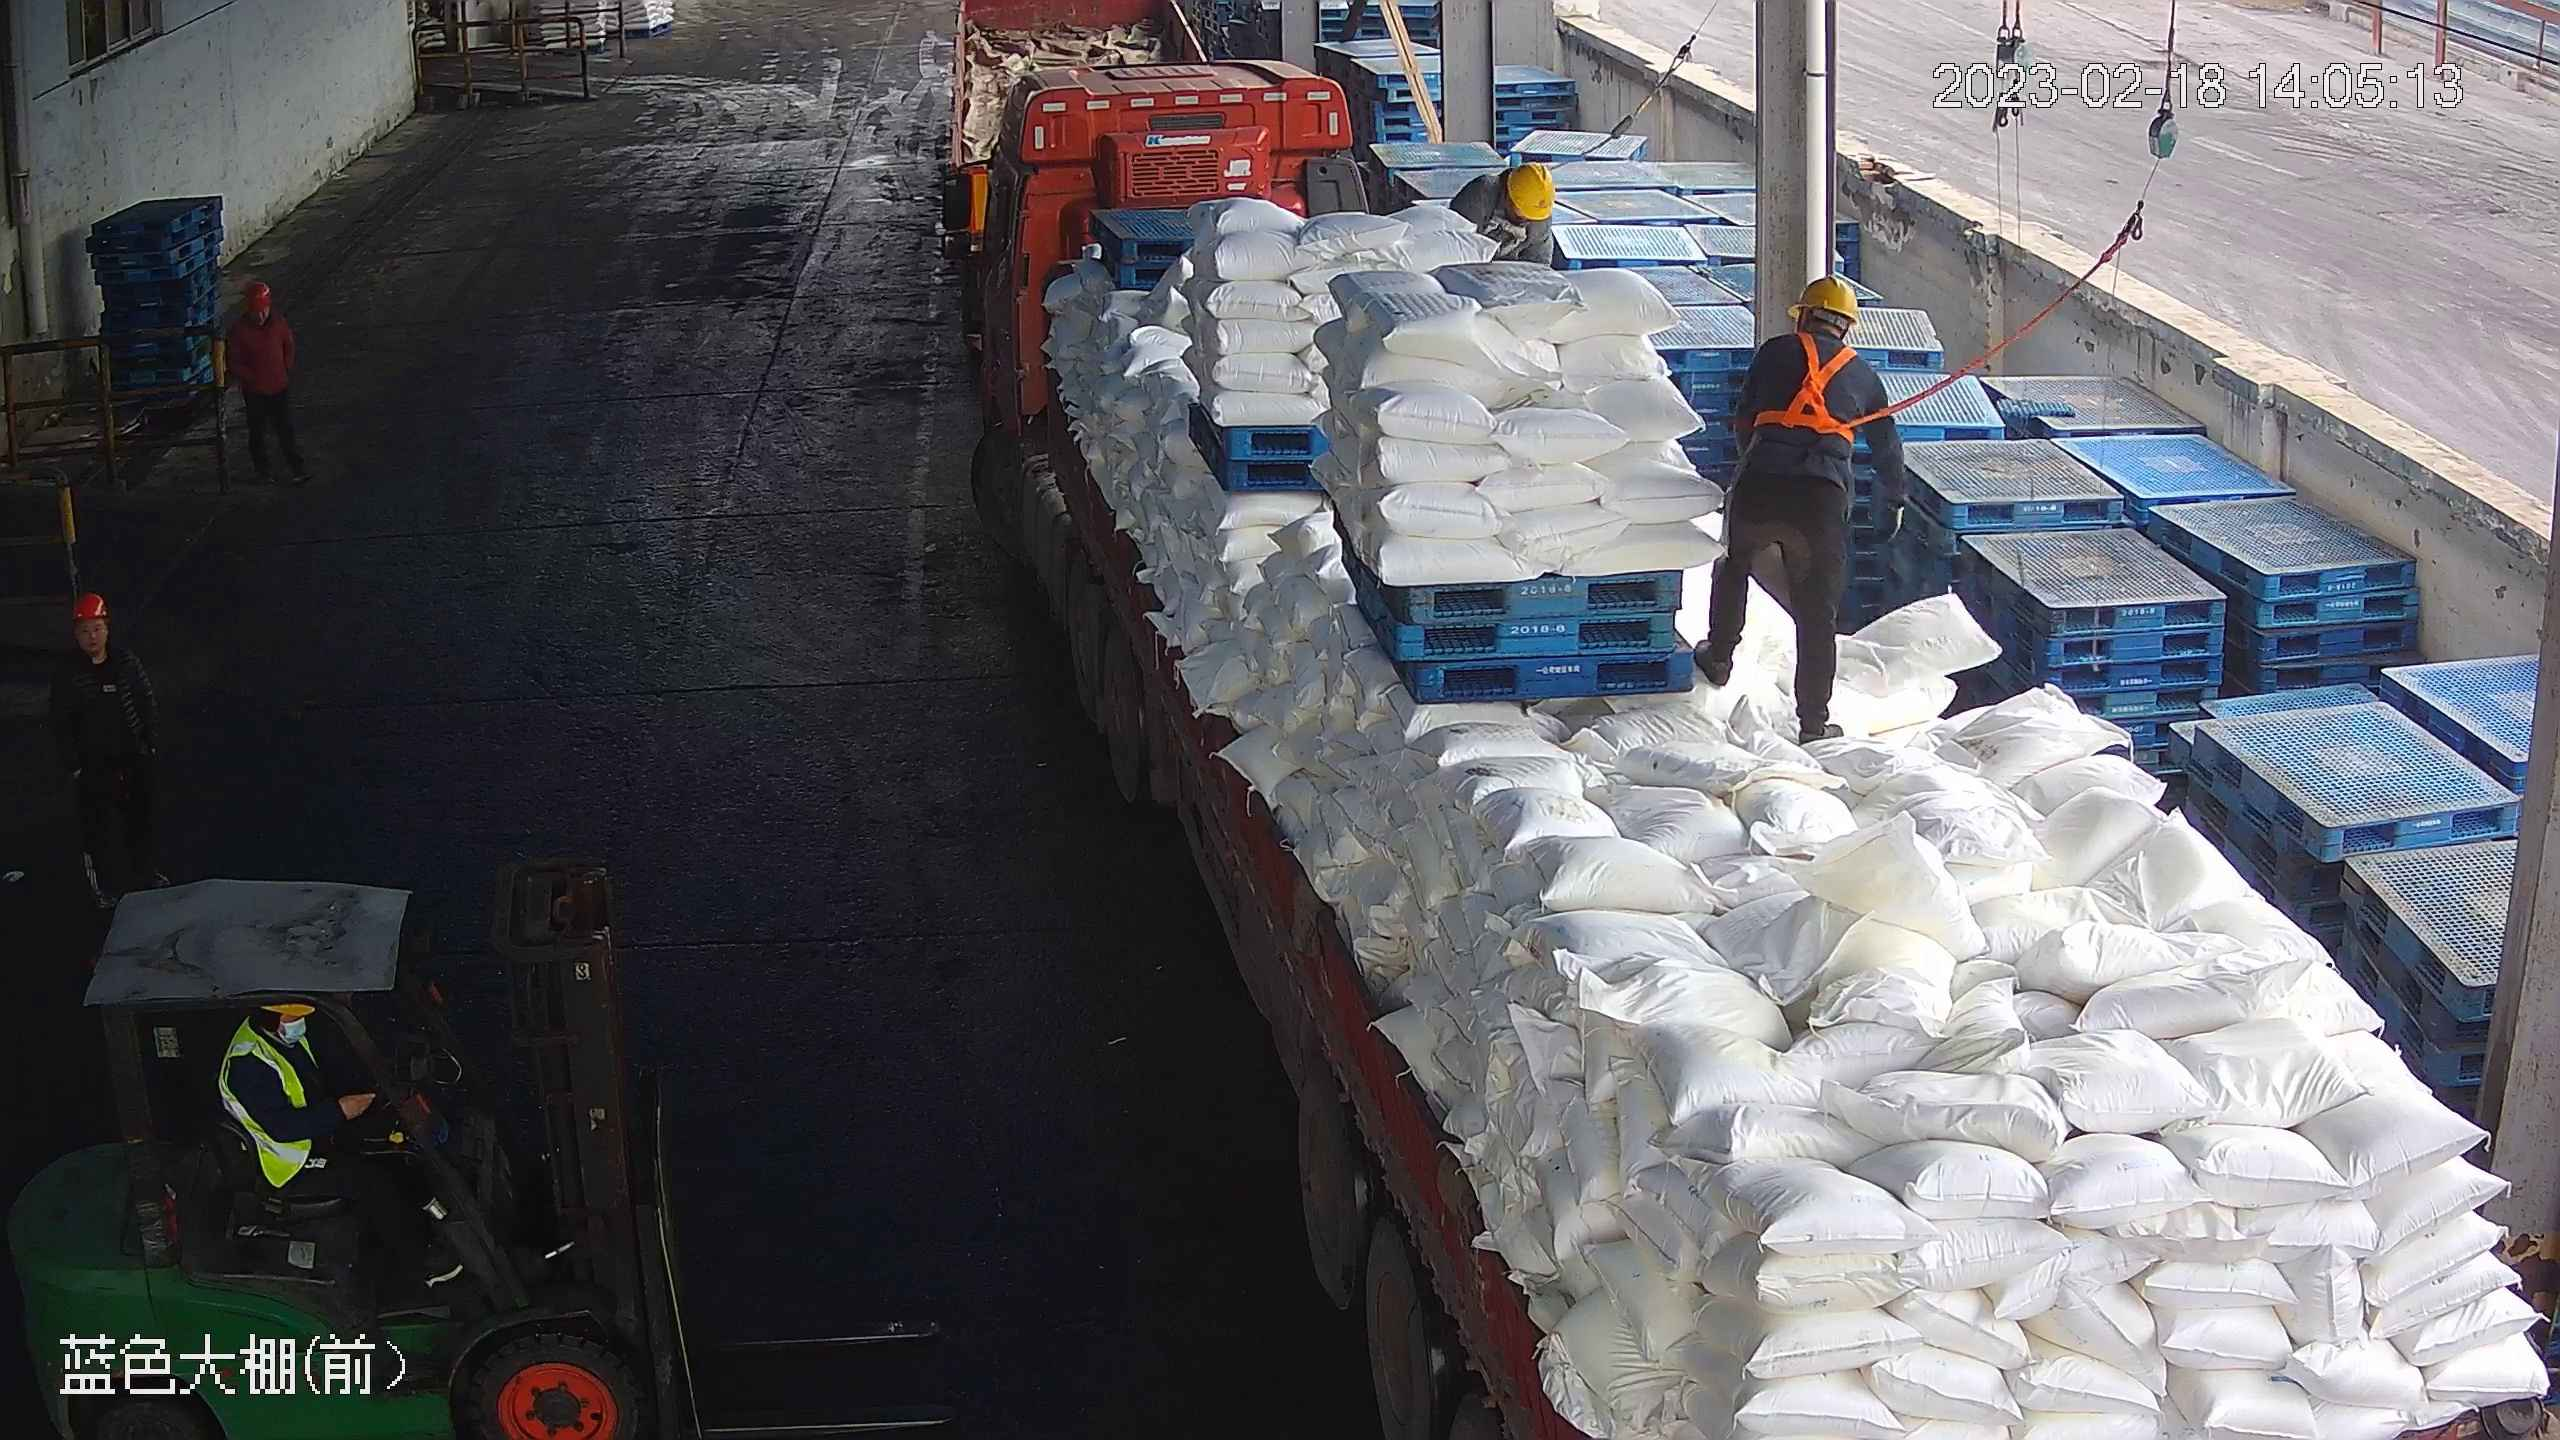belt: (1752, 331, 1870, 440), (1492, 197, 1539, 247)
head: (1735, 274, 1880, 405), (54, 590, 149, 701), (1464, 159, 1562, 236), (226, 276, 289, 334)
helmet: (1793, 273, 1861, 327), (1504, 158, 1557, 219), (71, 590, 111, 623), (241, 280, 274, 313)
people: (1684, 273, 1896, 740), (214, 993, 439, 1280), (51, 587, 167, 902), (217, 274, 311, 484)
truck: (947, 42, 2550, 1440)
